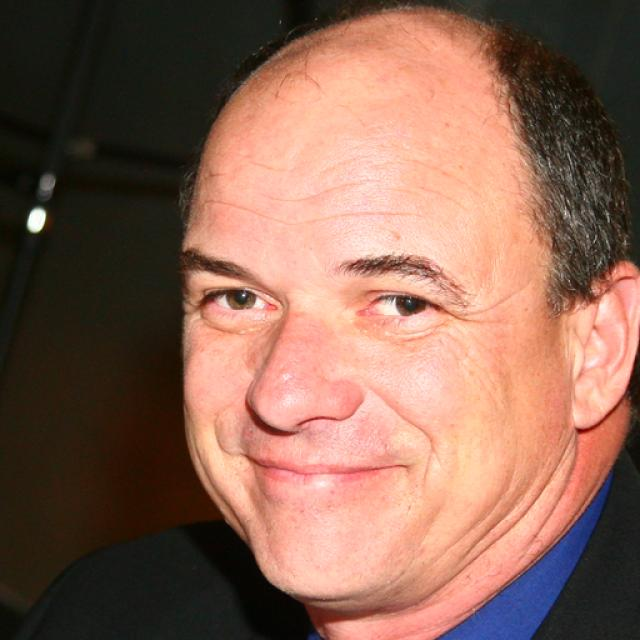Acne: (382, 225, 410, 246)
Dark Circle: (205, 194, 427, 234)
Wrinkle: (263, 175, 384, 205), (417, 156, 471, 186), (422, 184, 461, 207), (256, 158, 290, 174)
